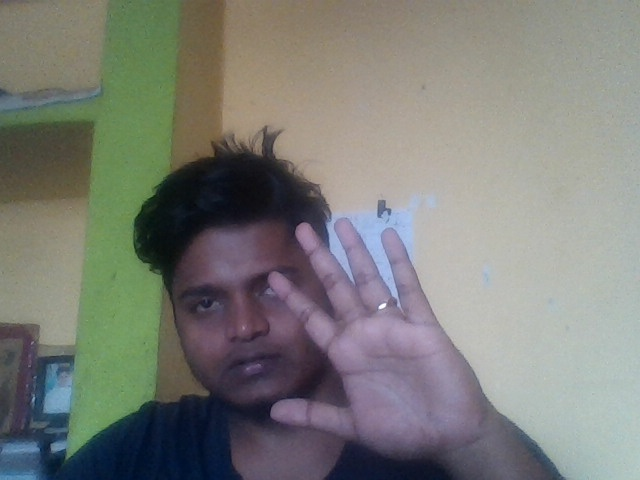Hello: (265, 213, 488, 464)
